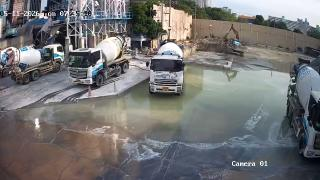cement_mixer_truck: (280, 62, 320, 158), (69, 34, 131, 86), (5, 44, 63, 84), (147, 43, 186, 94), (0, 47, 16, 77)
